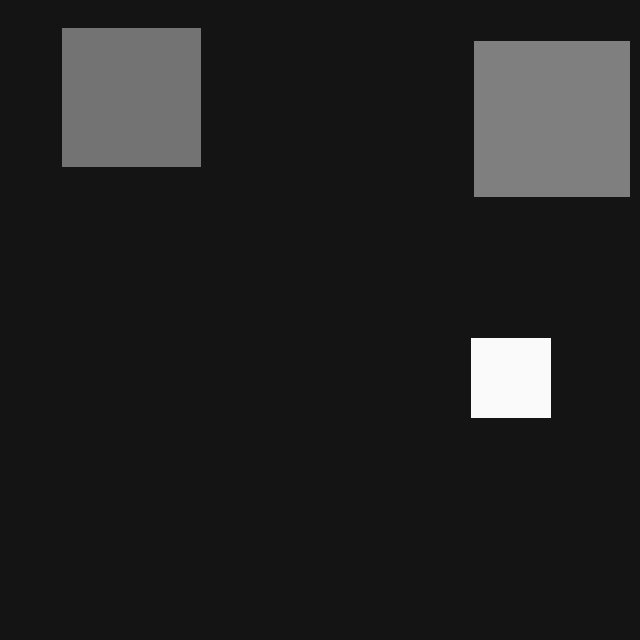square: (474, 41, 629, 196), (62, 28, 200, 166), (471, 338, 550, 417)
